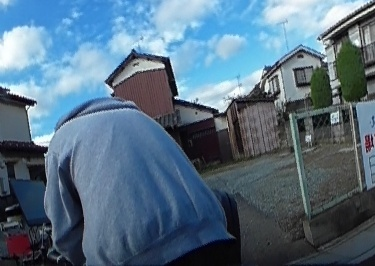person: (36, 95, 242, 264)
